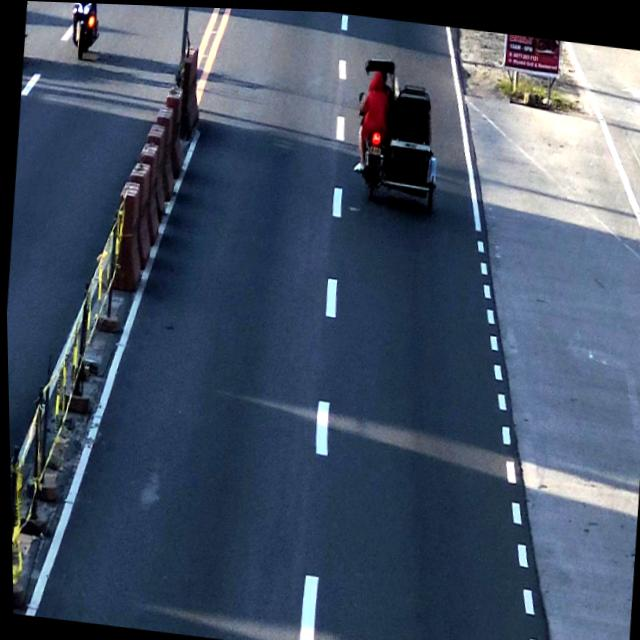License-Plate: (365, 139, 382, 156)
Tricycle: (345, 51, 449, 209)
